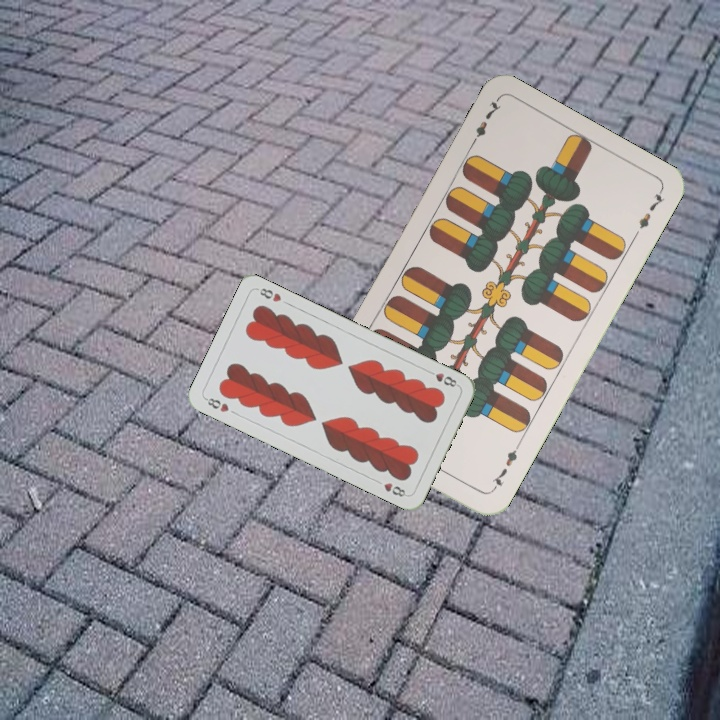E7: (466, 95, 504, 149), (487, 440, 522, 494)
H8: (423, 366, 461, 390), (201, 394, 232, 415)
